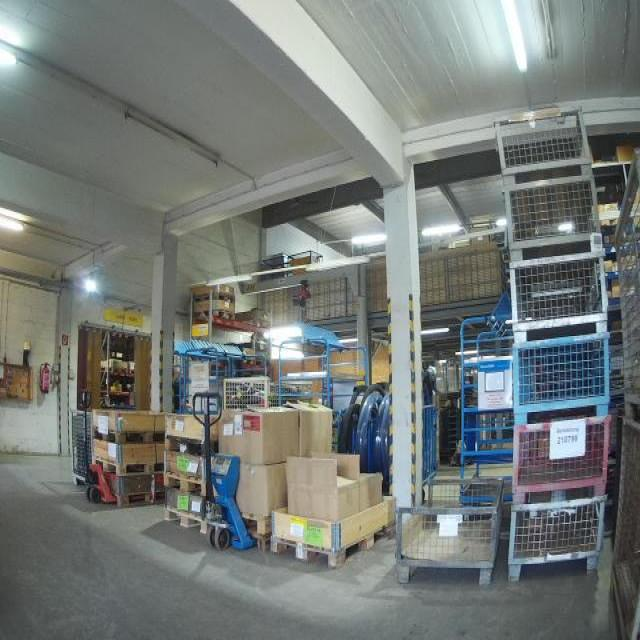pallet: (271, 519, 396, 569), (94, 454, 168, 478), (160, 505, 209, 538), (163, 433, 218, 462), (163, 469, 207, 501), (92, 428, 166, 447), (118, 487, 171, 510), (192, 291, 235, 304), (192, 309, 235, 321)
pallet_truck: (189, 391, 258, 556), (77, 388, 116, 509)
stillage: (396, 467, 505, 585), (507, 329, 617, 430), (508, 246, 612, 347), (505, 494, 613, 585), (509, 414, 615, 506), (500, 173, 604, 262), (497, 99, 598, 184), (610, 409, 640, 640), (614, 149, 639, 422), (223, 374, 303, 408), (68, 407, 98, 492)
